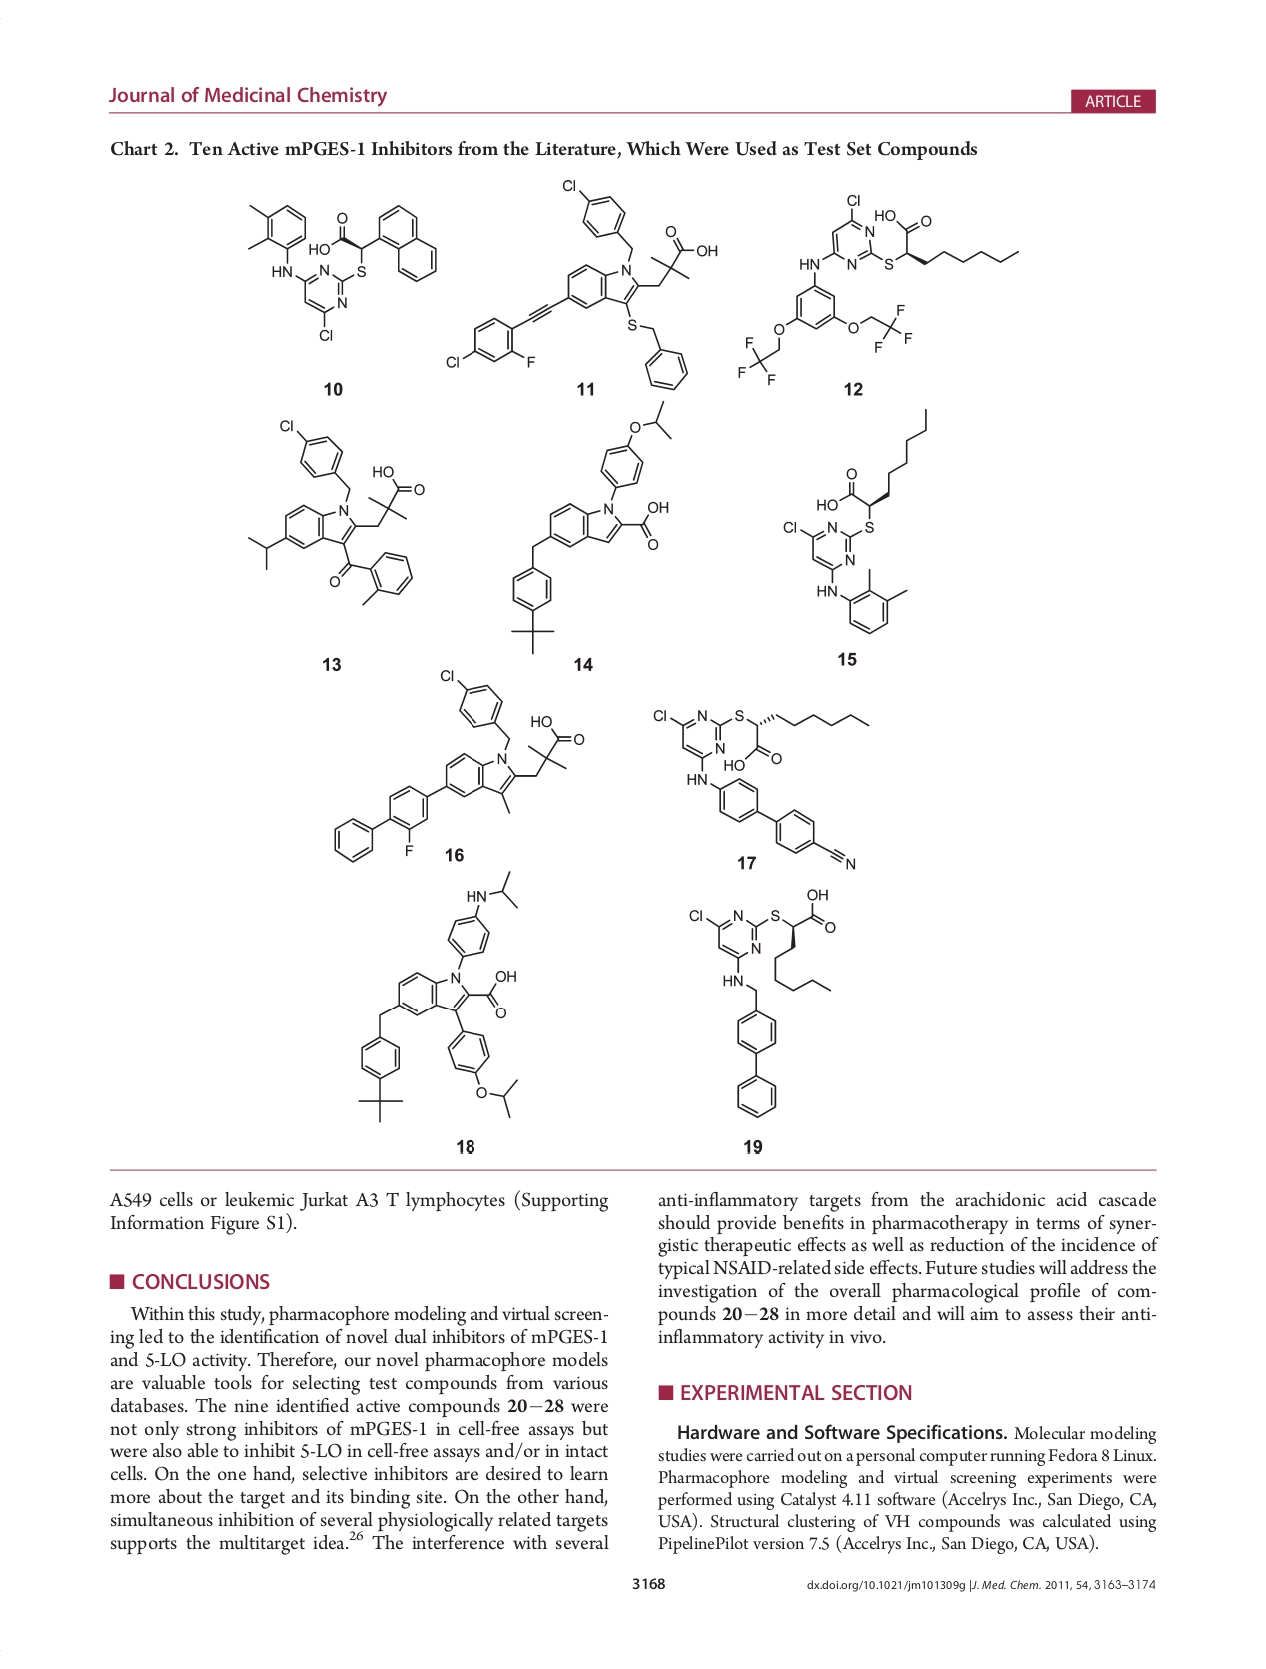exist_molecular: (444, 177, 721, 391), (731, 190, 1021, 384), (331, 664, 586, 867), (509, 396, 682, 657), (356, 868, 524, 1126), (649, 701, 872, 871), (245, 410, 432, 606), (685, 886, 838, 1118), (781, 406, 932, 636), (239, 195, 438, 344)
